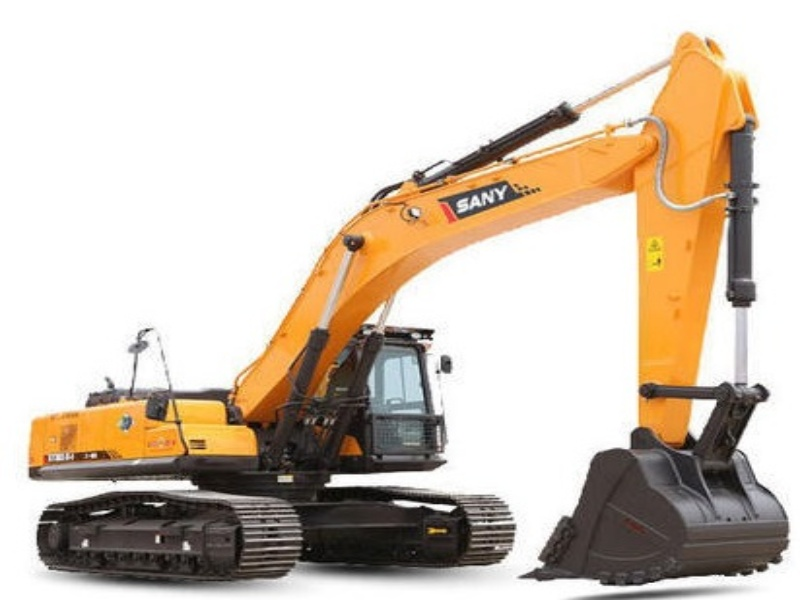wajueji: (8, 168, 565, 600)
